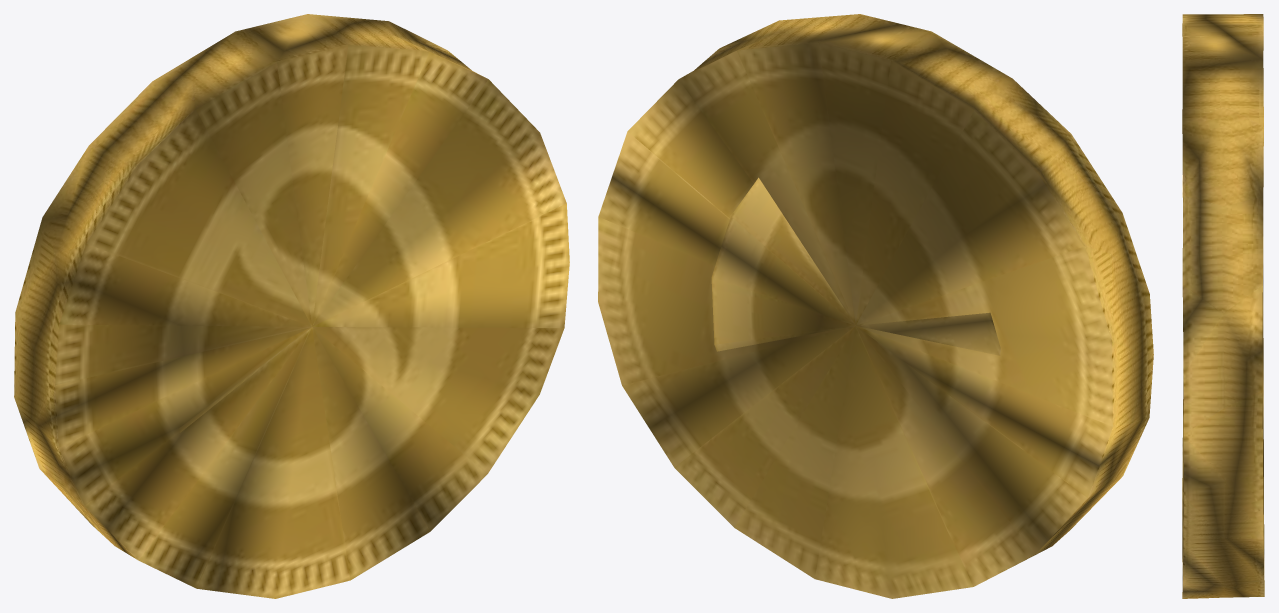
File: scrambly_coin.glb
The picture shows the model from 3 angles, left to right: view 1: azimuth 30°, elevation 25°; view 2: azimuth 150°, elevation 25°; view 3: azimuth 270°, elevation 25°; orthographic projection.
Size of the model in its own units: 2 by 2 by 0.2803.
Materials: 1 (1 with a texture image).
